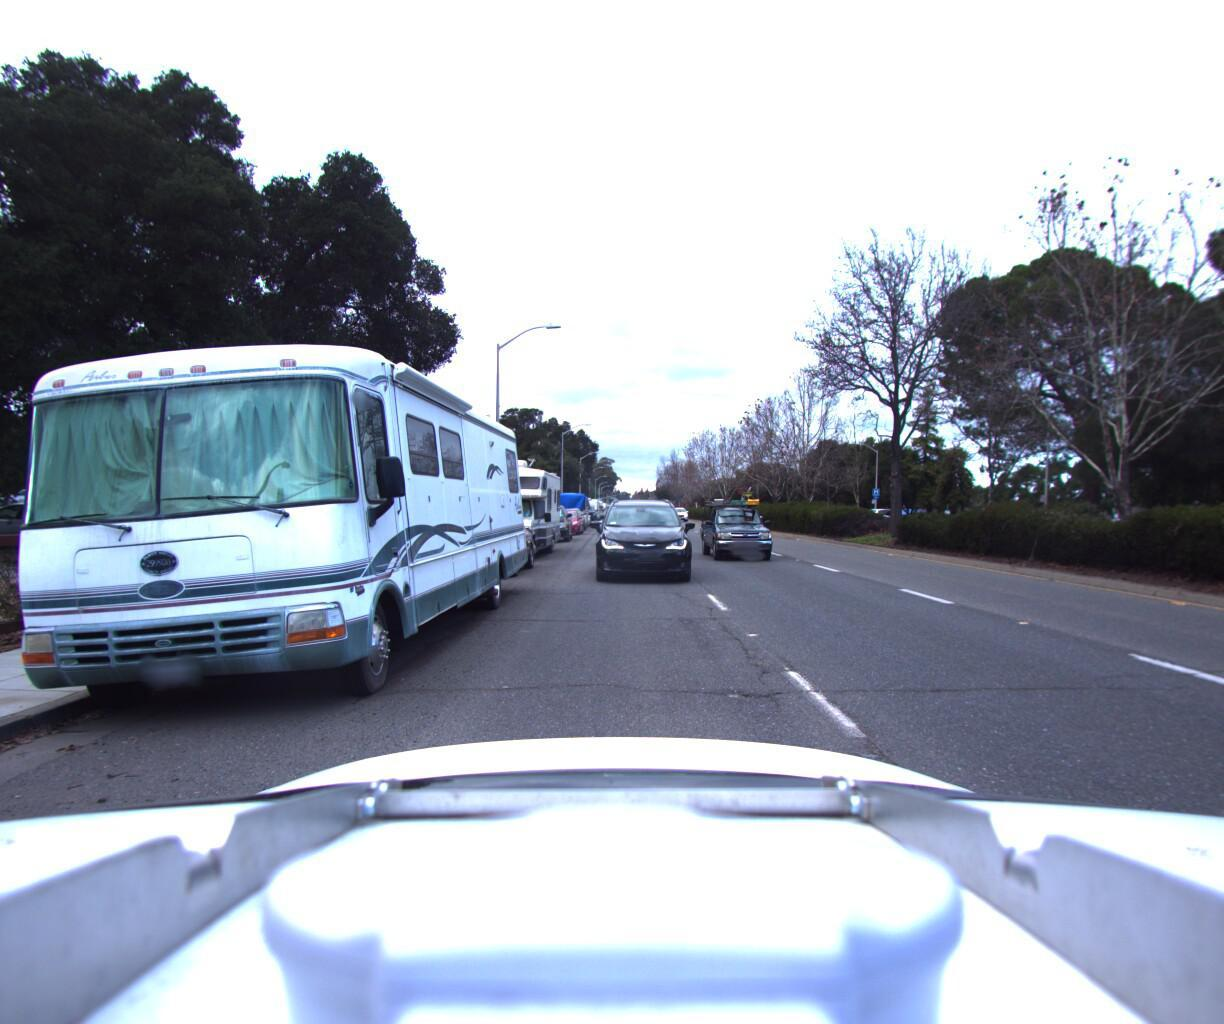car: (590, 493, 682, 585), (424, 510, 534, 582), (701, 477, 786, 564), (521, 499, 570, 544), (546, 506, 582, 534)
other_vehicle: (445, 463, 561, 563), (549, 488, 591, 525)
